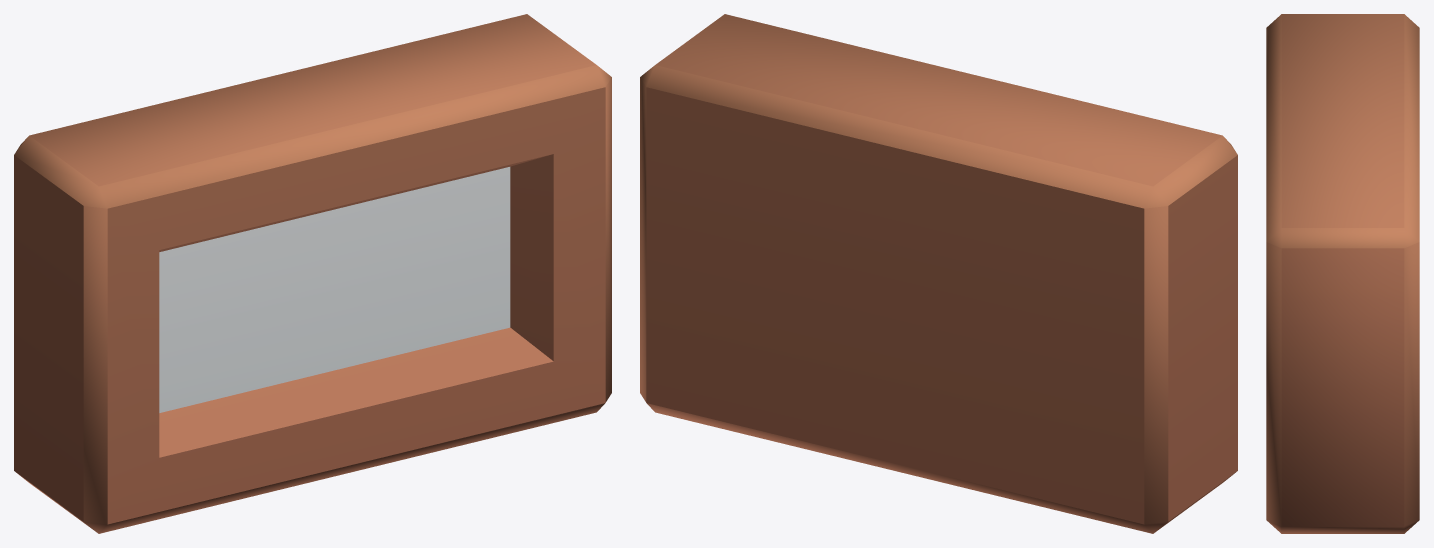
Rendered from pictureframe_small_b.glb.
3 renders of one model, left to right at view 1: azimuth 30°, elevation 25°; view 2: azimuth 150°, elevation 25°; view 3: azimuth 270°, elevation 25°, orthographic. The views are drawn at different scales.
Parts seen in each view (by area): view 1: pictureframe_small_B; view 2: pictureframe_small_B; view 3: pictureframe_small_B.
Part boxes in pixels (x1,y1,x2,y2): pictureframe_small_B: (14, 14, 611, 533); pictureframe_small_B: (640, 14, 1237, 533); pictureframe_small_B: (1266, 14, 1419, 533).
Size of the model in its own units: 0.49 by 0.308 by 0.14.
Materials: 1 (1 with a texture image).
